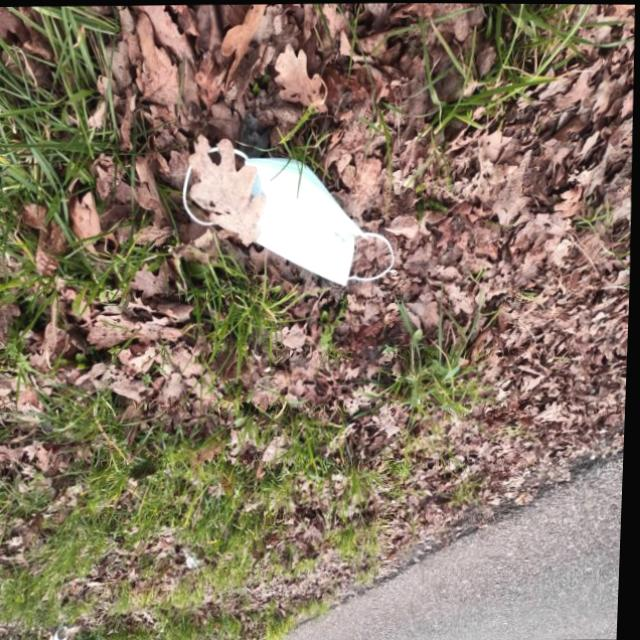Can-Metal: (50, 623, 73, 640)
Mask: (178, 140, 399, 289)
Paper: (187, 550, 208, 567)
